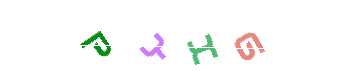6: (169, 0, 249, 80)
P: (58, 0, 138, 80)
X: (151, 0, 231, 80)
Y: (139, 0, 219, 80)
